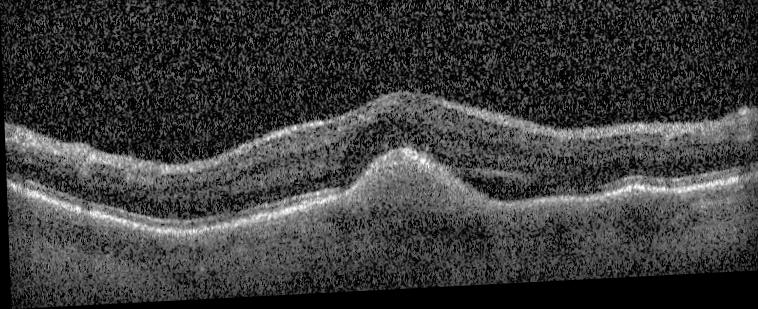retinal_drusen: (356, 164, 466, 214)
